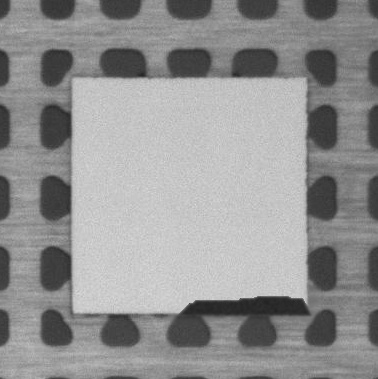DIE_BROKEN: (174, 293, 312, 317)
